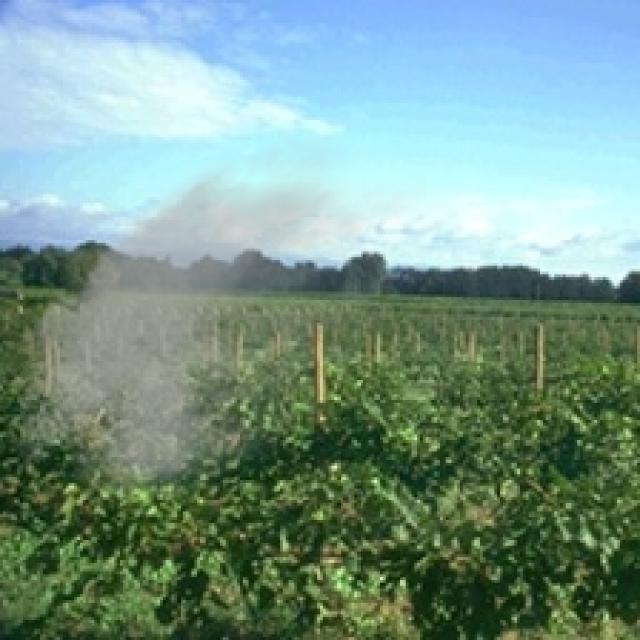smoke: (0, 125, 426, 526)
